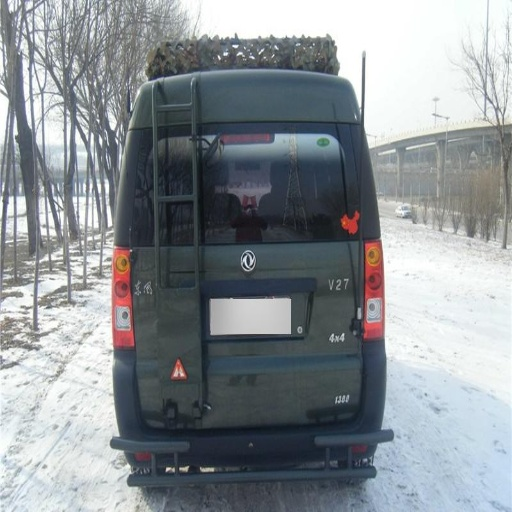back_bumper: (119, 339, 388, 505)
